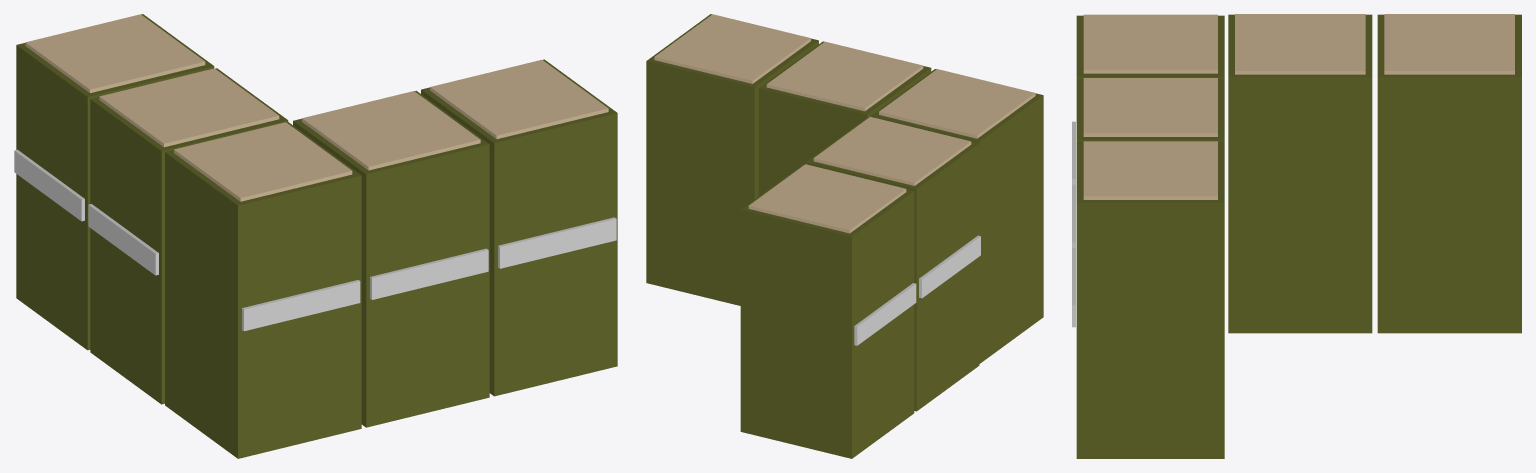
Rendered from SM_HescoEsquina_v1_Geotextil_e0_Sano_LOD1.fbx.
3 views of the same model, side by side, from view 1: azimuth 30°, elevation 25°; view 2: azimuth 150°, elevation 25°; view 3: azimuth 270°, elevation 25° (orthographic). The views are drawn at different scales.
Parts seen in each view (by area): view 1: SM_hesco_piezas_v4_LOD1; view 2: SM_hesco_piezas_v4_LOD1; view 3: SM_hesco_piezas_v4_LOD1.
Boxes of the visible parts, x1,y1,x2,y2 form: SM_hesco_piezas_v4_LOD1: (14,14,617,458); SM_hesco_piezas_v4_LOD1: (646,14,1043,458); SM_hesco_piezas_v4_LOD1: (1072,14,1521,458).
Bounding box in the file's own units: 3.34 × 2.13 × 3.34.
